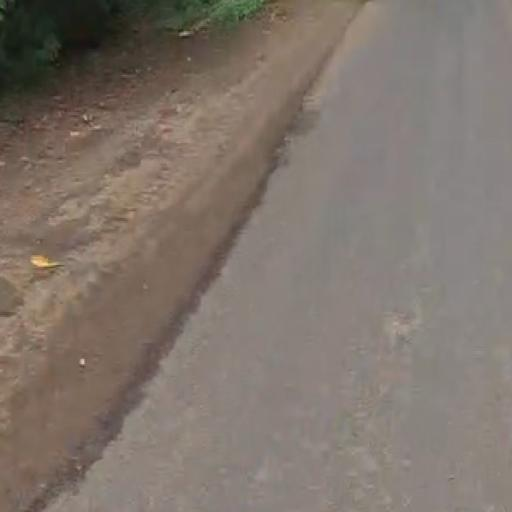edge_damage: (67, 78, 347, 479)
